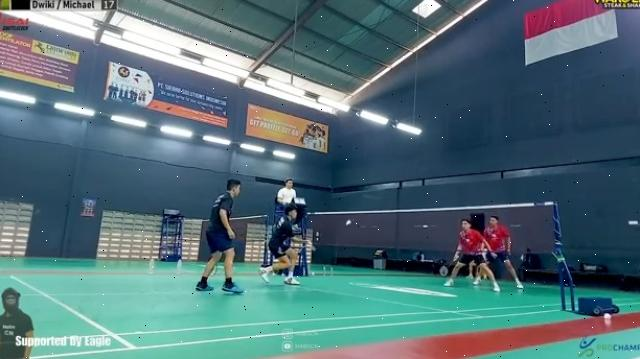Shuttlecock: (342, 218, 353, 228)
